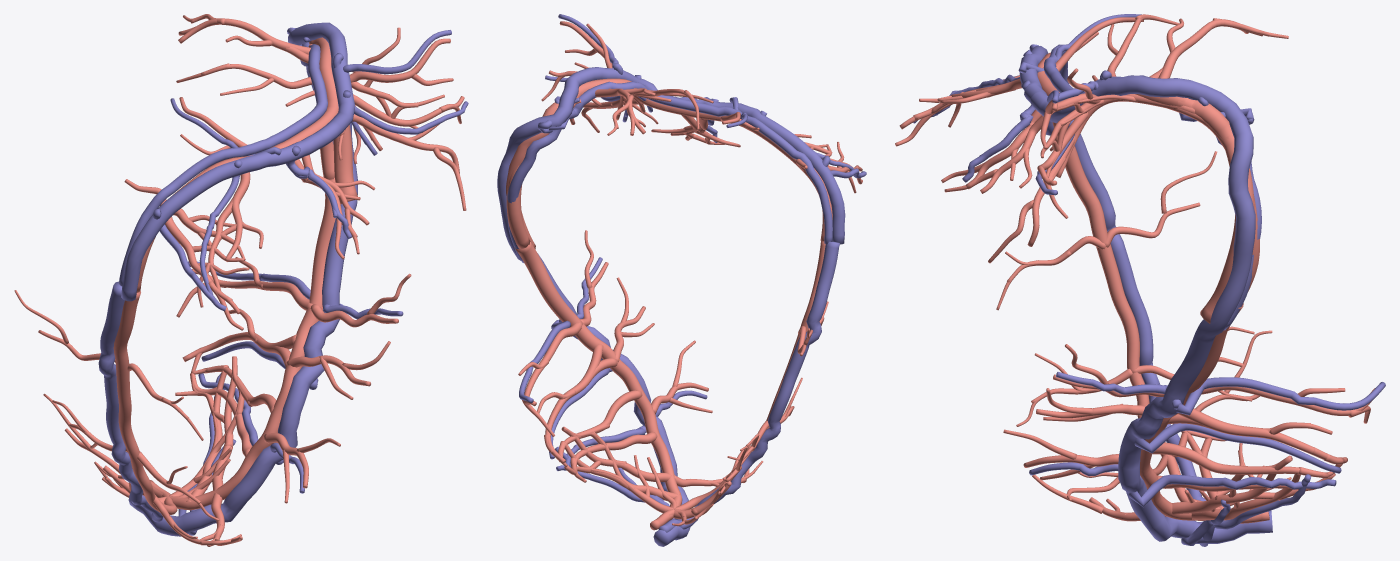
File: vessels_28.glb
The picture shows the model from 3 angles, left to right: view 1: azimuth 30°, elevation 25°; view 2: azimuth 150°, elevation 25°; view 3: azimuth 270°, elevation 25°; orthographic projection. The views are drawn at different scales.
Parts seen in each view (by area): view 1: Renderer Node; view 2: Renderer Node; view 3: Renderer Node.
Part boxes in pixels (<box>): Renderer Node: <box>14,14,468,546</box>; Renderer Node: <box>497,14,866,546</box>; Renderer Node: <box>895,14,1385,546</box>.
Bounding box in the file's own units: 93.74 × 120 × 94.19.
